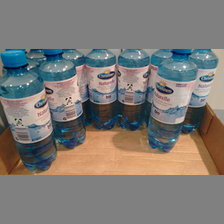water: (1, 49, 57, 172), (145, 49, 199, 154), (39, 49, 86, 150), (117, 49, 149, 130), (86, 49, 116, 130)
